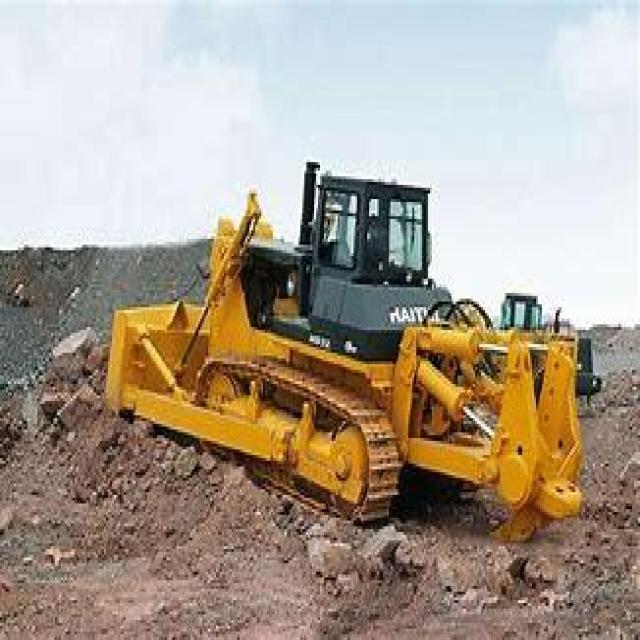buldozerpayloadergrader: (86, 162, 606, 580)
